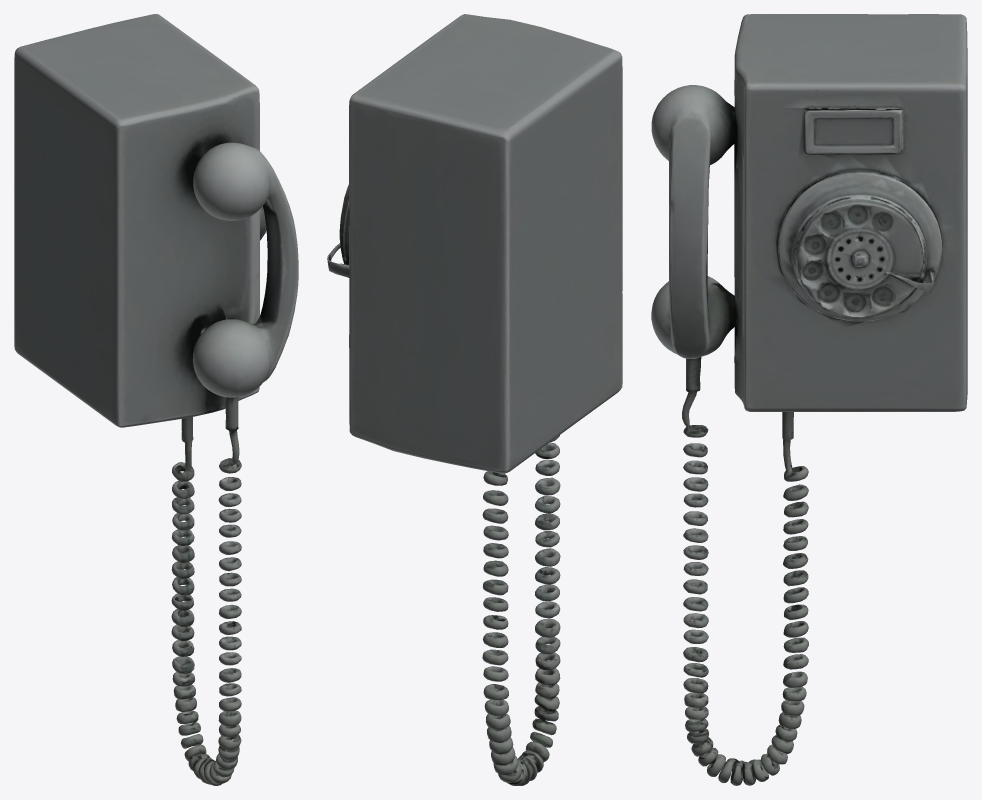
The model's file is telefon-opt-v3.glb.
3 views of the same model, side by side, from view 1: azimuth 30°, elevation 25°; view 2: azimuth 150°, elevation 25°; view 3: azimuth 270°, elevation 25° (orthographic). The views are drawn at different scales.
Parts seen in each view (by area): view 1: tripo_node_c1be4af9-738e-4450-9faf-7a79795a3e47; view 2: tripo_node_c1be4af9-738e-4450-9faf-7a79795a3e47; view 3: tripo_node_c1be4af9-738e-4450-9faf-7a79795a3e47.
Boxes of the visible parts, x1,y1,x2,y2 form: tripo_node_c1be4af9-738e-4450-9faf-7a79795a3e47: [14, 14, 298, 785]; tripo_node_c1be4af9-738e-4450-9faf-7a79795a3e47: [327, 14, 622, 785]; tripo_node_c1be4af9-738e-4450-9faf-7a79795a3e47: [651, 14, 967, 785].
Bounding box in the file's own units: 0.2796 × 1 × 0.394.
1 material, 1 textured.
